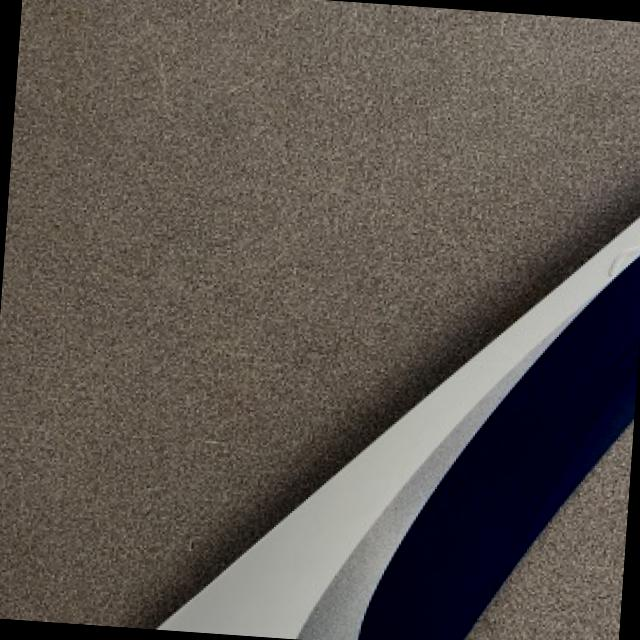healthy: (92, 0, 640, 627), (157, 214, 640, 640)
